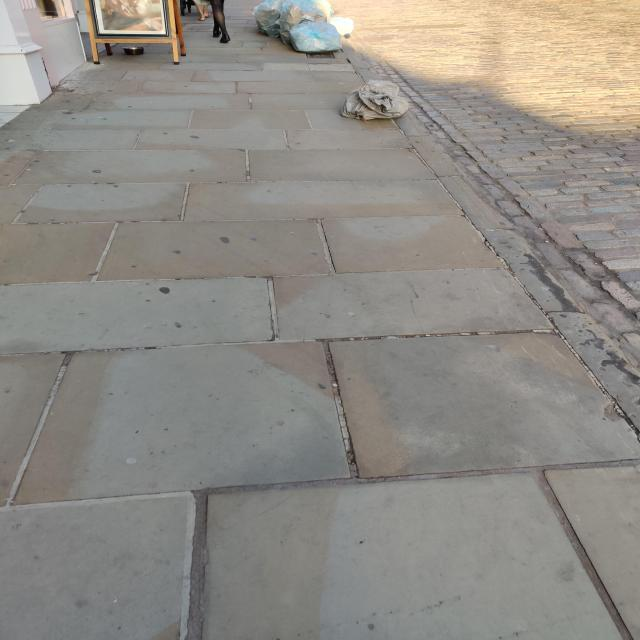litter: (339, 80, 415, 121)
